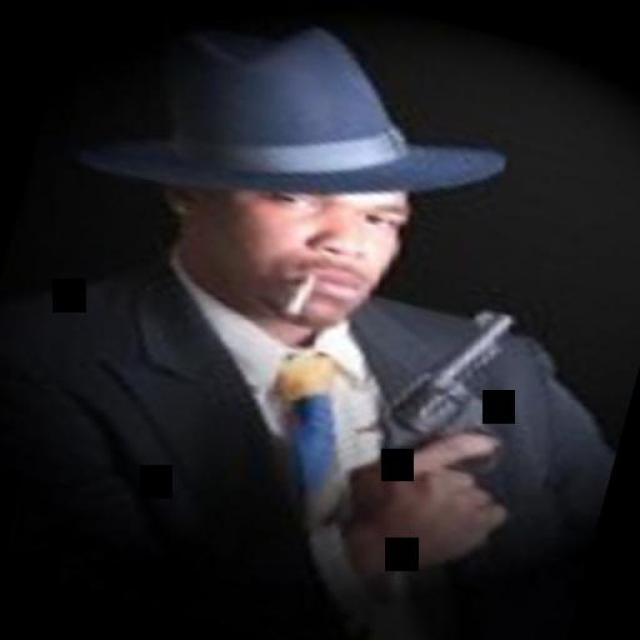gun: (321, 281, 544, 614)
